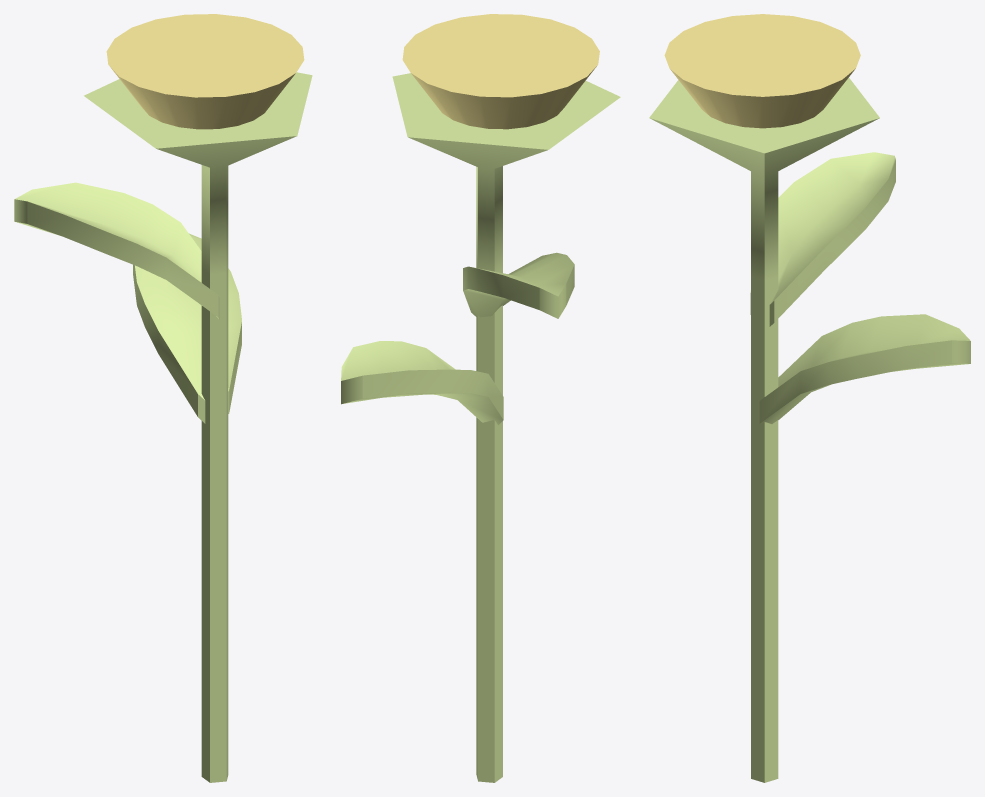
Rendered from model_flower_stem_01.fbx.
The picture shows the model from 3 angles, left to right: view 1: azimuth 30°, elevation 25°; view 2: azimuth 150°, elevation 25°; view 3: azimuth 270°, elevation 25°; orthographic projection.
Visible parts, largest first — view 1: pPipe20, pCylinder4, pCube13, pCube12; view 2: pPipe20, pCylinder4, pCube12, pCube13; view 3: pPipe20, pCylinder4, pCube13, pCube12.
Boxes of the visible parts, <box> form: pPipe20: <box>84,72,312,782</box>; pCylinder4: <box>106,14,304,129</box>; pCube13: <box>14,182,219,319</box>; pCube12: <box>133,233,241,423</box>; pPipe20: <box>392,73,620,782</box>; pCylinder4: <box>402,14,599,129</box>; pCube12: <box>341,341,503,425</box>; pCube13: <box>463,252,574,318</box>; pPipe20: <box>649,77,879,782</box>; pCylinder4: <box>664,14,860,128</box>; pCube13: <box>750,152,895,326</box>; pCube12: <box>759,314,970,424</box>.
Bounding box in the file's own units: 2.58 × 7.7 × 3.14.
Materials: 2 (2 with a texture image).
